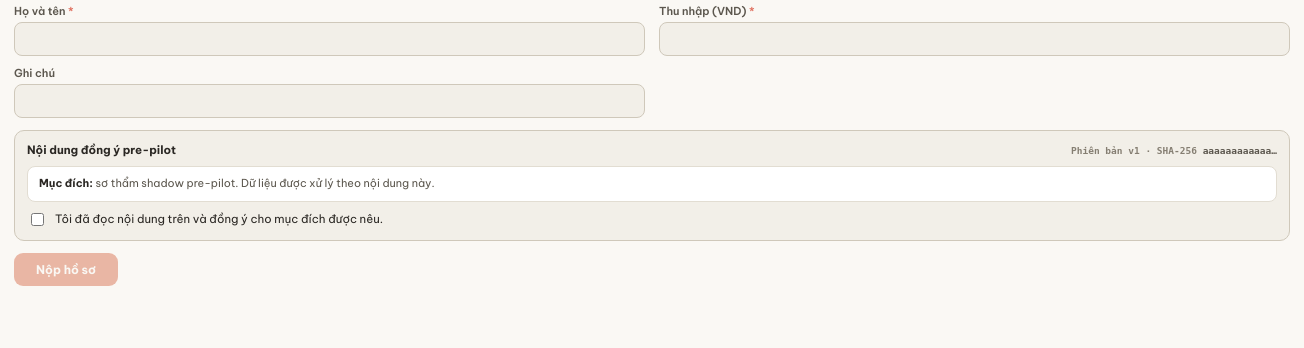
it: FormCard › lỗi submit từ server (body 4-field) → hiện message
In the field labelled "Họ và tên": (330,39) [14,22,645,56], type "A"
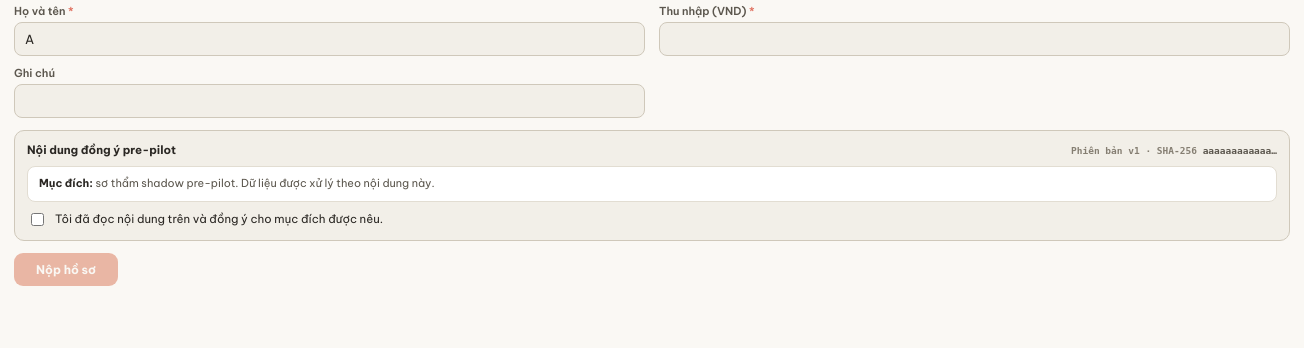
In the number field labelled "Thu nhập (VND)": (974,39) [659,22,1290,56], type "15000000"
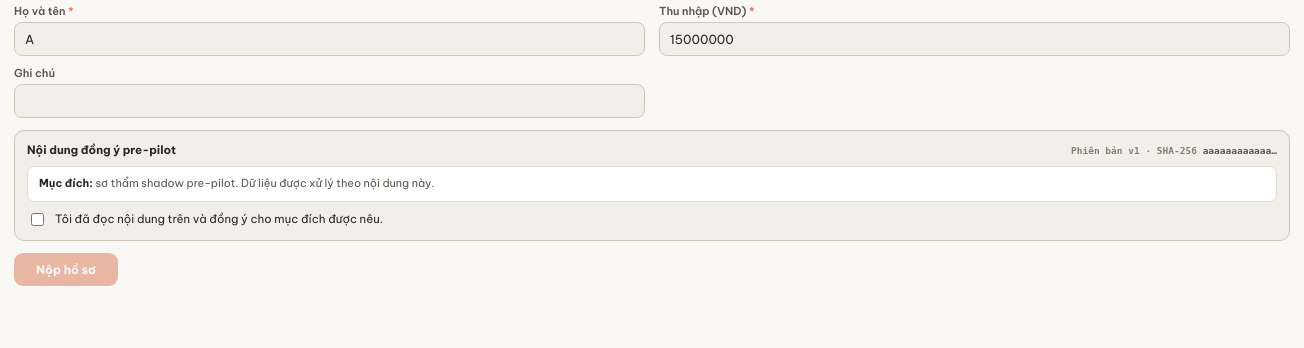
Click the checkbox: (38,219) [31,213,44,226]
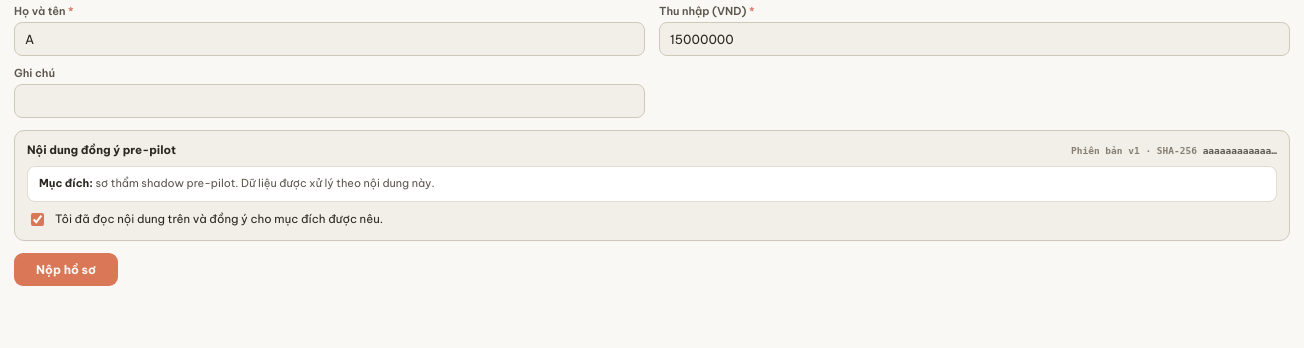
Click the button with test id "form-submit": (66,269) [14,253,118,286]
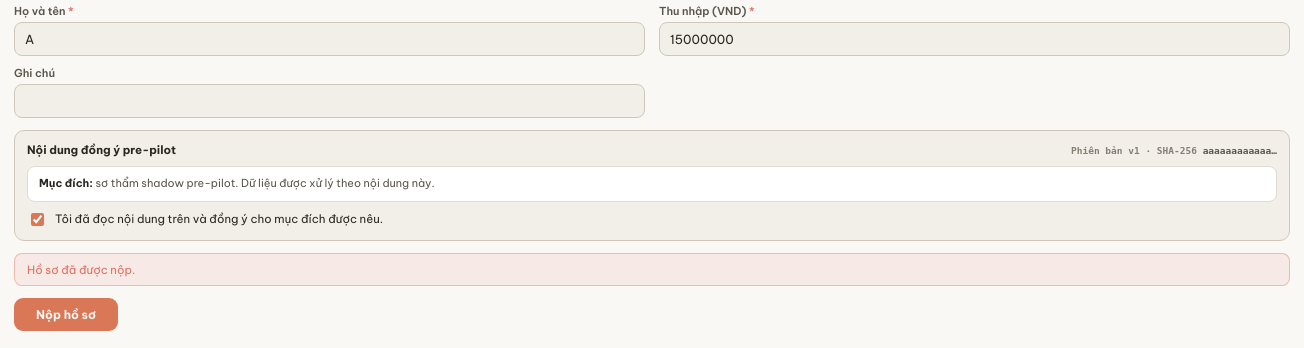
Result: the message reads "Hồ sơ đã được nộp." at [27,262,135,277]
